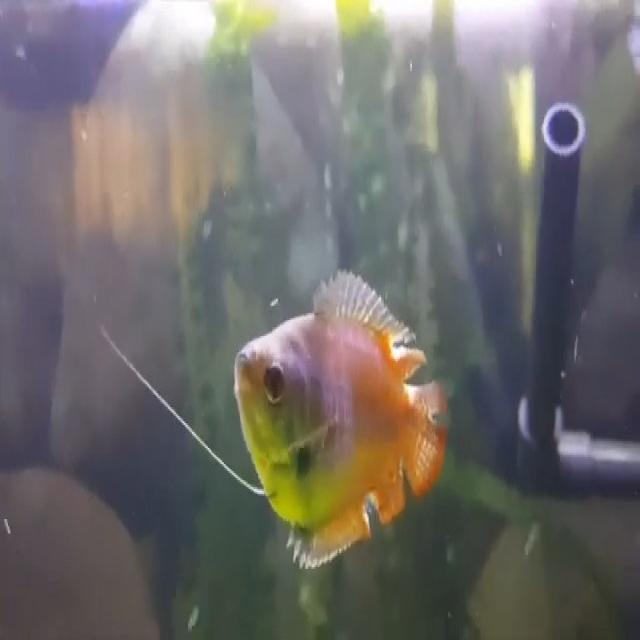fish: (232, 266, 449, 573)
